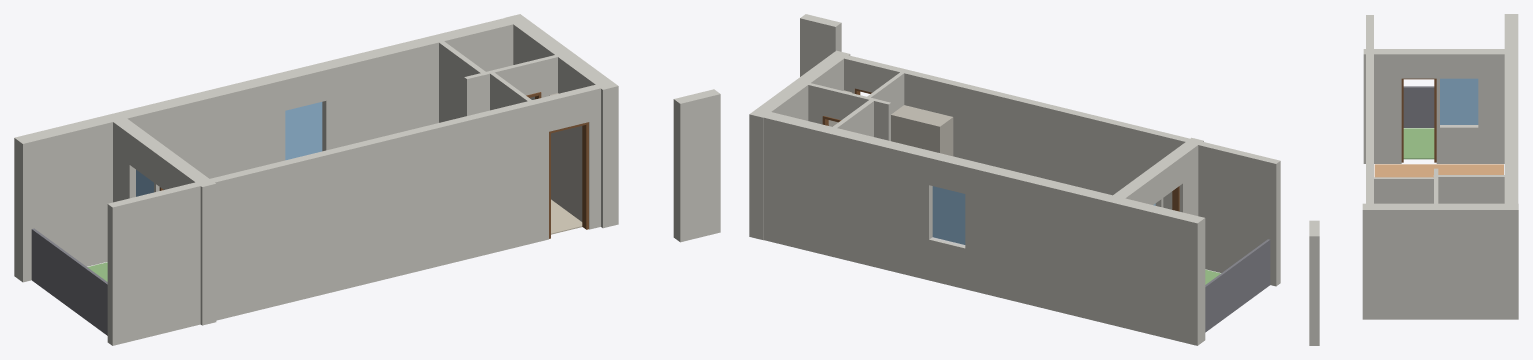
The picture shows the model from 3 angles, left to right: view 1: azimuth 30°, elevation 25°; view 2: azimuth 150°, elevation 25°; view 3: azimuth 270°, elevation 25°; orthographic projection. The views are drawn at different scales.
Visible parts, largest first — view 1: walls, railings, furniture_1_closet, window_0, door_3, floor_4_Entry; view 2: walls, railings, furniture_2_closet, window_0; view 3: walls, window_1, floor_1_Living_Room, railings, floor_0_Outdoor, door_2.
Boxes of the visible parts, x1,y1,x2,y2 form: walls: [14, 14, 720, 345]; railings: [31, 228, 107, 335]; furniture_1_closet: [549, 93, 582, 221]; window_0: [285, 102, 322, 160]; door_3: [549, 122, 588, 238]; floor_4_Entry: [551, 199, 582, 234]; walls: [749, 14, 1280, 345]; railings: [1205, 239, 1270, 332]; furniture_2_closet: [891, 105, 953, 156]; window_0: [932, 186, 965, 244]; walls: [1309, 14, 1518, 345]; window_1: [1440, 78, 1478, 124]; floor_1_Living_Room: [1374, 164, 1503, 177]; railings: [1403, 86, 1434, 127]; floor_0_Outdoor: [1403, 128, 1434, 159]; door_2: [1401, 78, 1436, 162].
Size of the model in its own units: 11.73 by 2.72 by 4.67.
